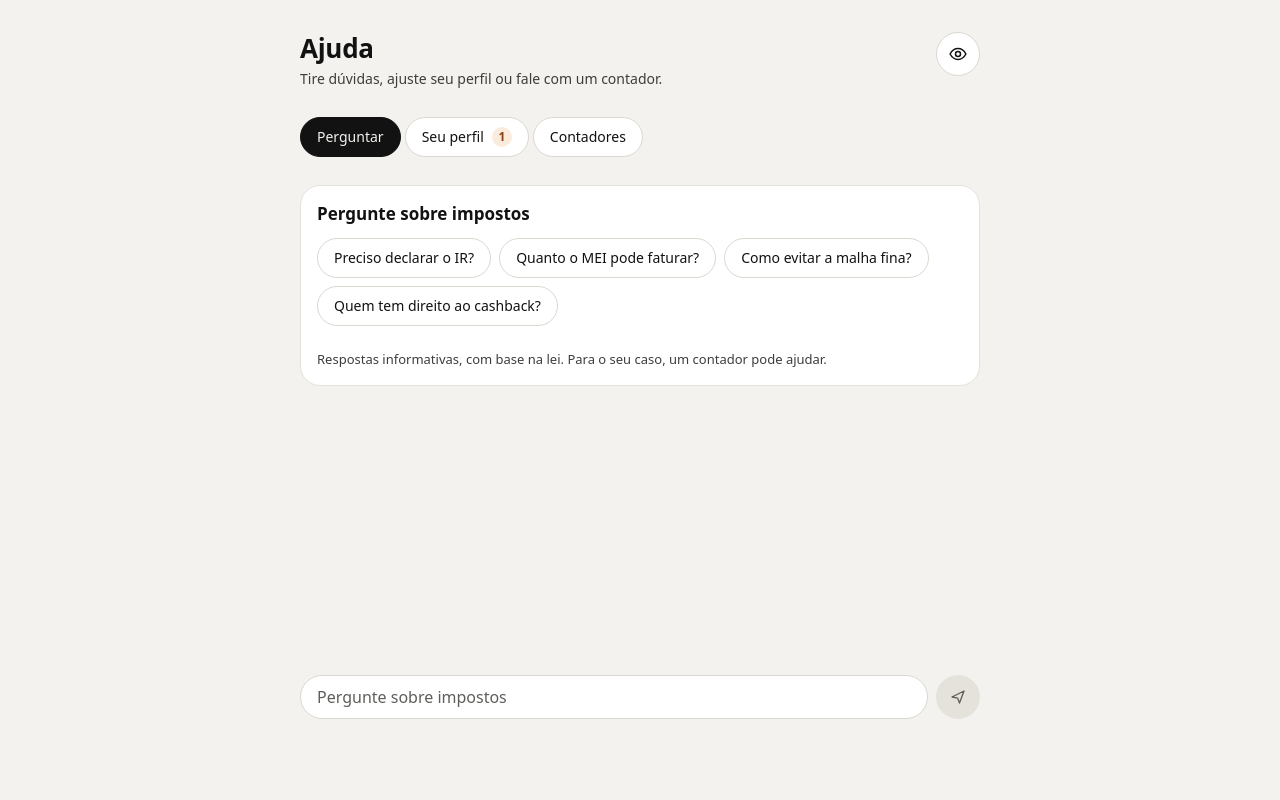
Test case: Ajuda › pede contato a um contador (cadastro de exemplo sinalizado)
The width and height of the screenshot is (1280, 800).
Step 1. Click the tab "Contadores" → coordinates (588, 137), box [533,117,643,157]
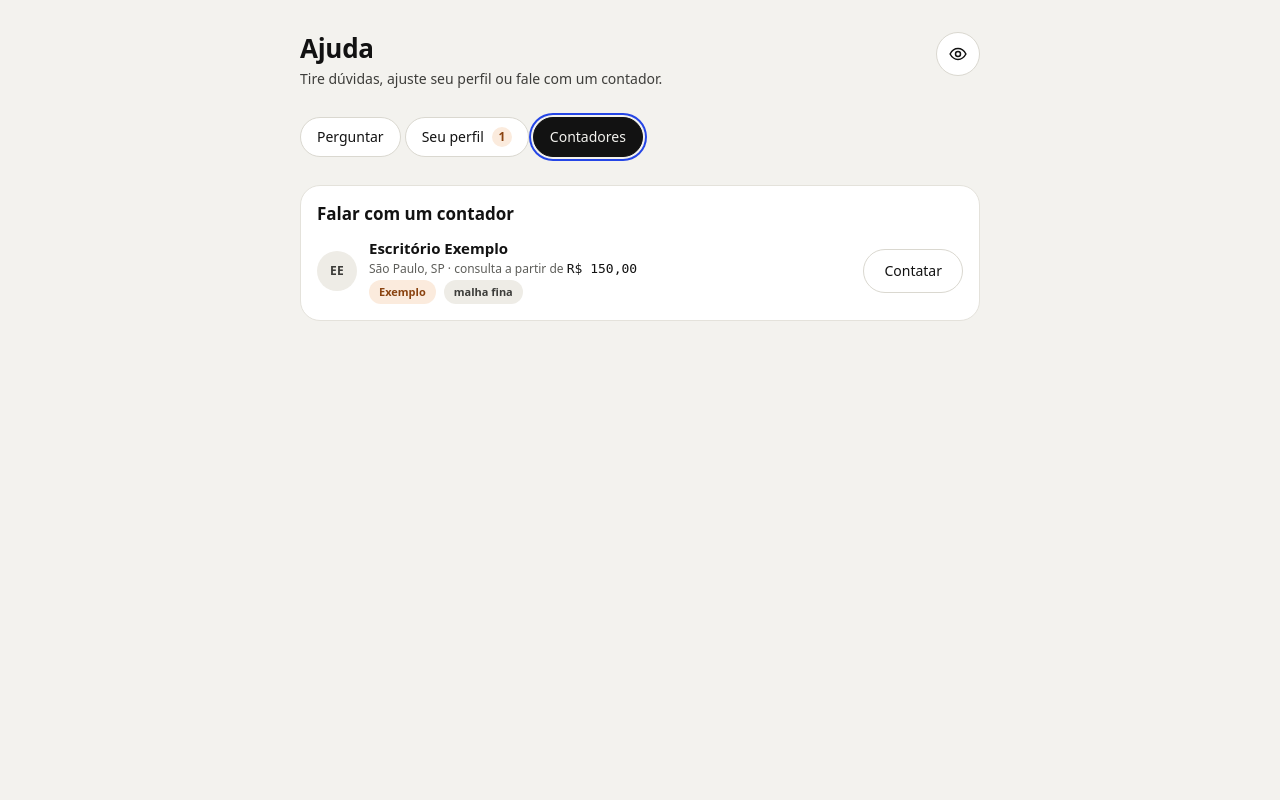
Now the text "Exemplo" is shown, box [369,280,436,304]
Step 2. Click the button "Contatar" → coordinates (913, 271), box [863,249,963,293]
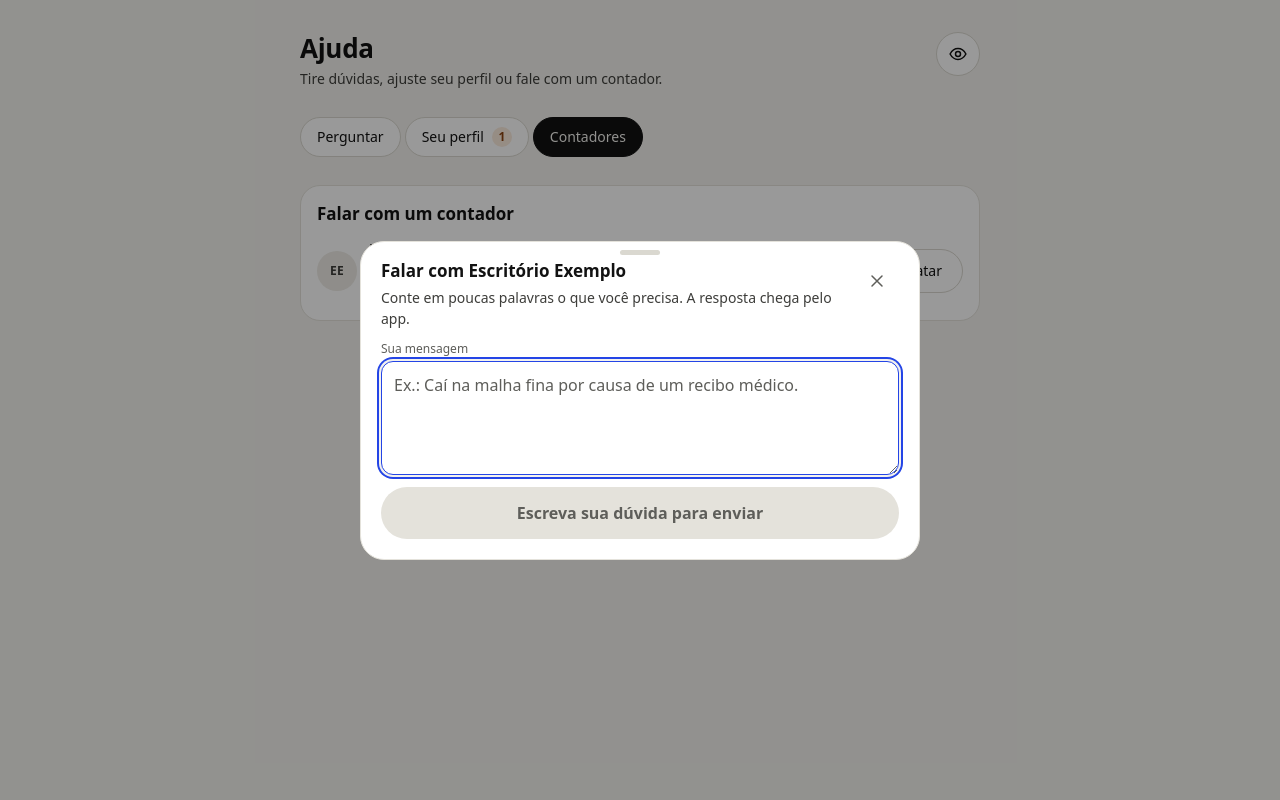
Now the dialog "Falar com Escritório Exemplo" is shown, box [360,240,920,560]
Step 3. Type "Caí na malha fina, preciso de ajuda." into the text box labelled "Sua mensagem" → coordinates (640, 418), box [381,360,899,474]
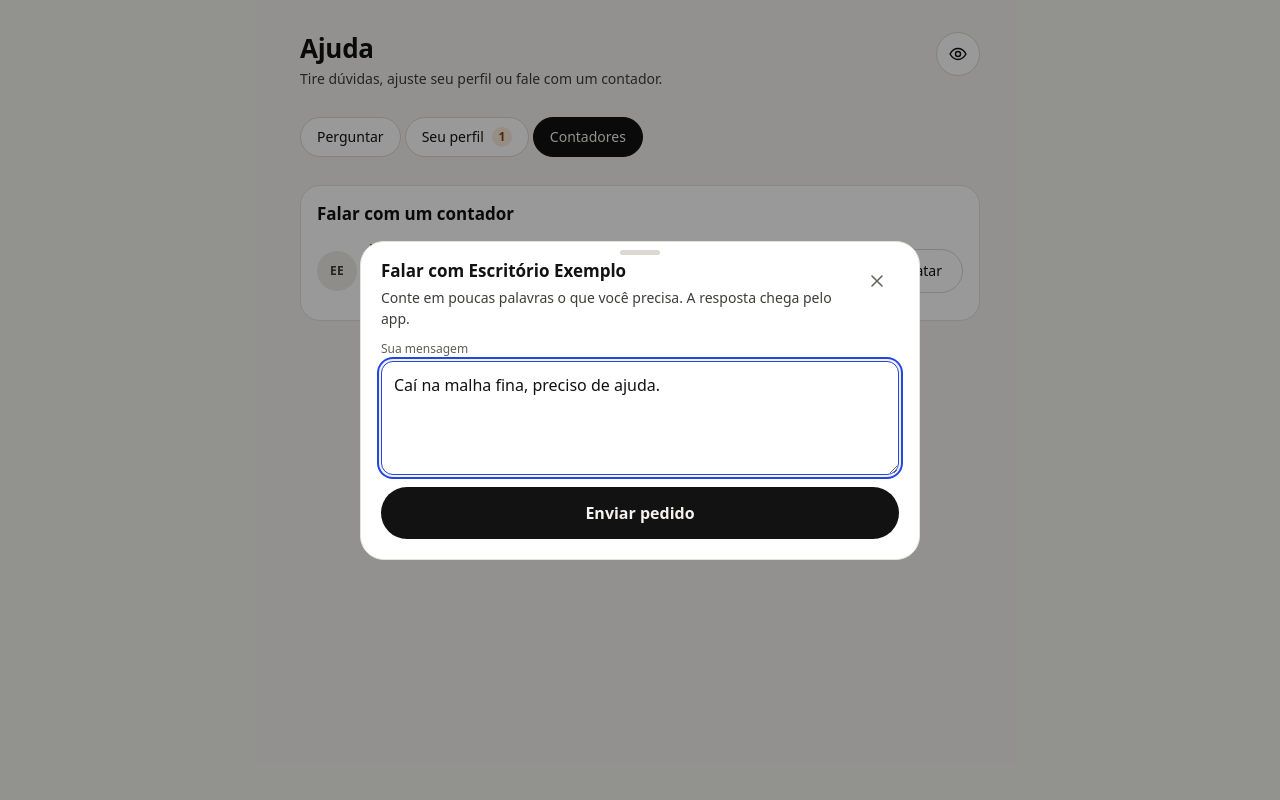
Step 4. Click the button "Enviar pedido" → coordinates (640, 512), box [381,486,899,538]
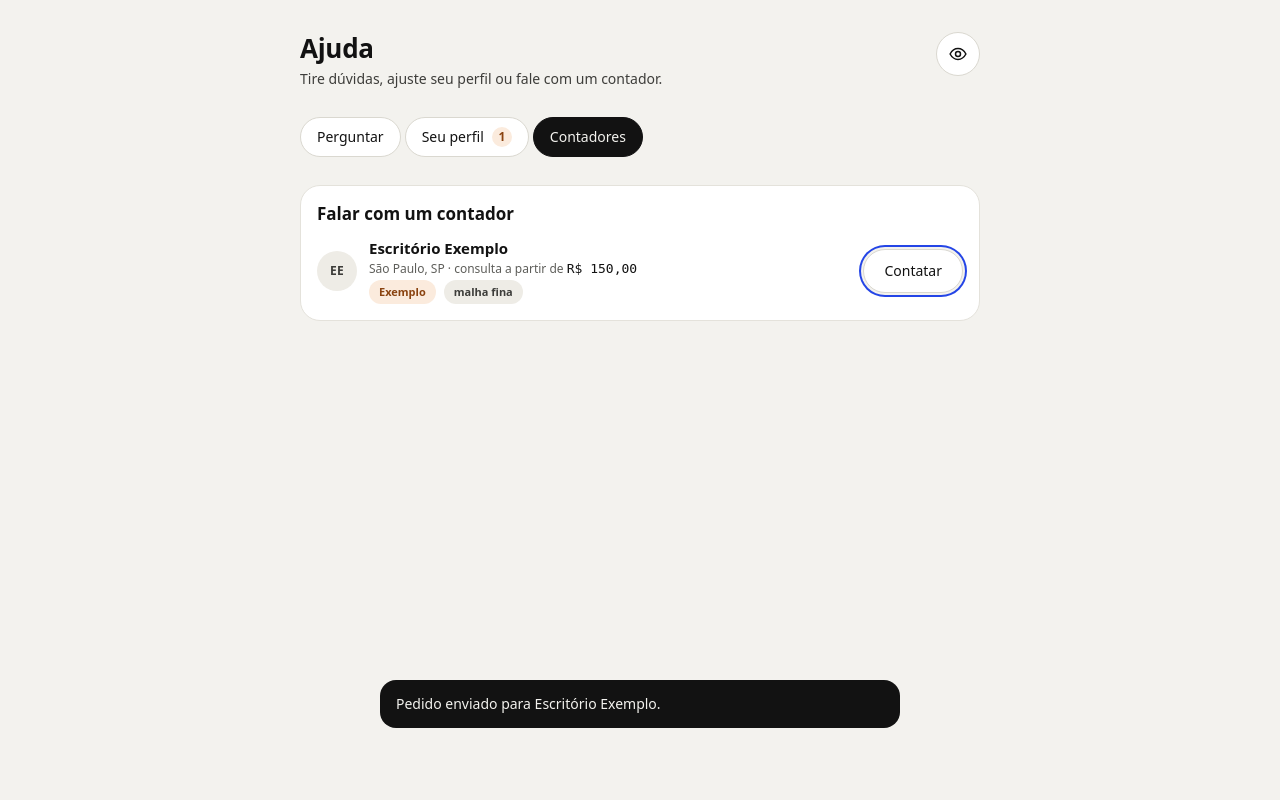
Now the text "Pedido enviado para Escritório Exemplo." is shown, box [396,694,661,714]
Now the dialog is gone
